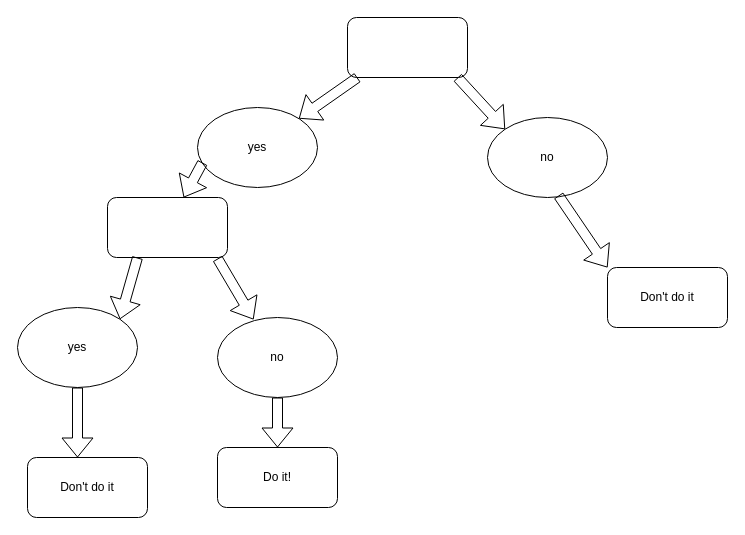
This 745x535 diagram has some shape labels left out. Each missing label, with the centre of its shape:
Is it fun?: point (407, 47)
Will it hurt others?: point (167, 227)
